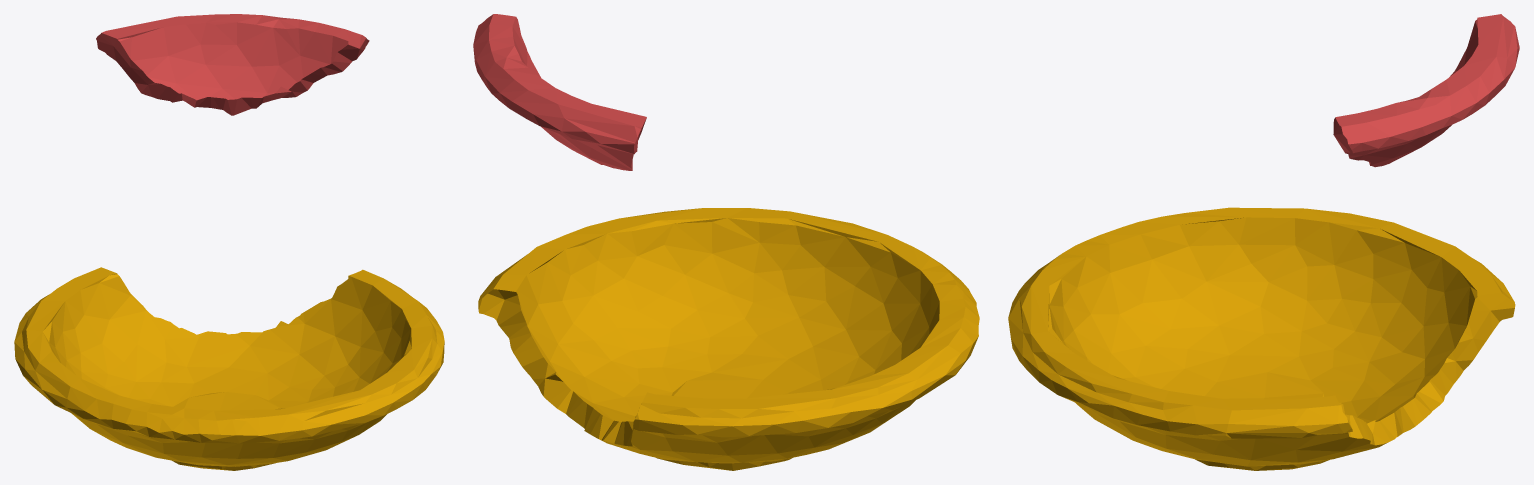
Rendered from fractured_76_2pcs_transformed.glb.
3 views of the same model, side by side, from view 1: azimuth 30°, elevation 25°; view 2: azimuth 150°, elevation 25°; view 3: azimuth 270°, elevation 25° (orthographic). The views are drawn at different scales.
Parts seen in each view (by area): view 1: piece_0.obj, piece_1.obj; view 2: piece_0.obj, piece_1.obj; view 3: piece_0.obj, piece_1.obj.
Part boxes in pixels (bbox=[...]): piece_0.obj: bbox=[14, 267, 444, 470]; piece_1.obj: bbox=[96, 14, 369, 115]; piece_0.obj: bbox=[478, 208, 979, 470]; piece_1.obj: bbox=[473, 14, 646, 170]; piece_0.obj: bbox=[1008, 207, 1515, 470]; piece_1.obj: bbox=[1333, 14, 1519, 167].
Bounding box in the file's own units: 0.9973 × 0.8661 × 1.
